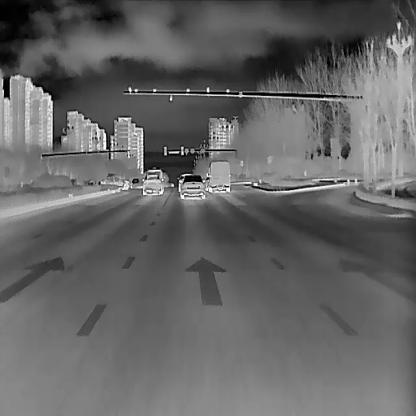car: (206, 158, 231, 192), (178, 172, 206, 198), (140, 172, 164, 195), (98, 174, 131, 190), (145, 166, 163, 192), (131, 177, 139, 187)
